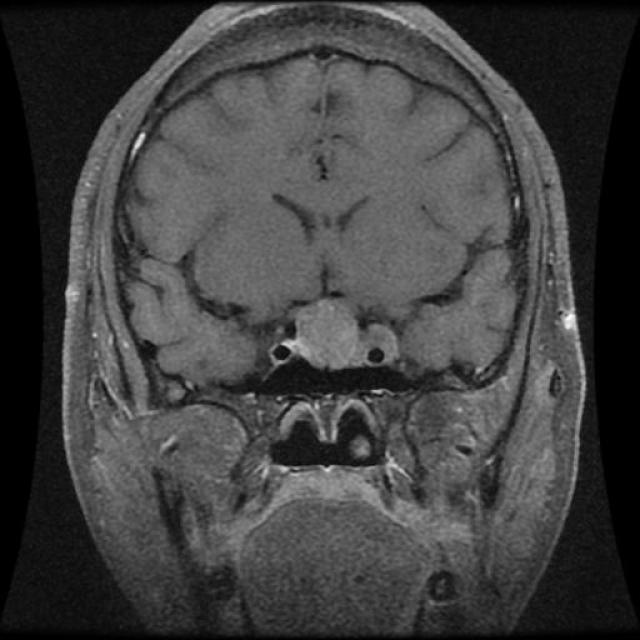pituitary: (270, 288, 404, 382)
